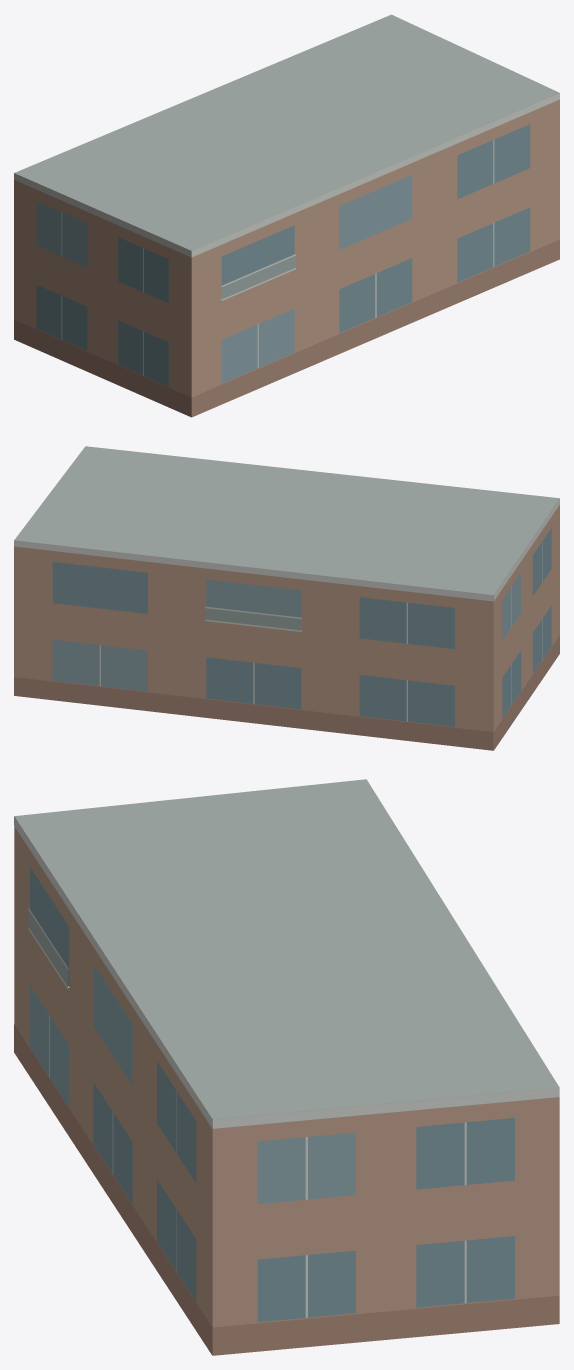
Rendered from survey-upis-32648755.glb.
3 renders of one model, top to bottom at view 1: azimuth 30°, elevation 25°; view 2: azimuth 150°, elevation 25°; view 3: azimuth 270°, elevation 25°, orthographic. The views are drawn at different scales.
Visible parts, largest first — view 1: survey-upis-32648755.tmp; view 2: survey-upis-32648755.tmp; view 3: survey-upis-32648755.tmp.
Boxes of the visible parts, <box> form: survey-upis-32648755.tmp: <box>14,14,559,417</box>; survey-upis-32648755.tmp: <box>14,446,559,750</box>; survey-upis-32648755.tmp: <box>14,779,559,1355</box>.
Size of the model in its own units: 18.85 by 6.1 by 12.78.
